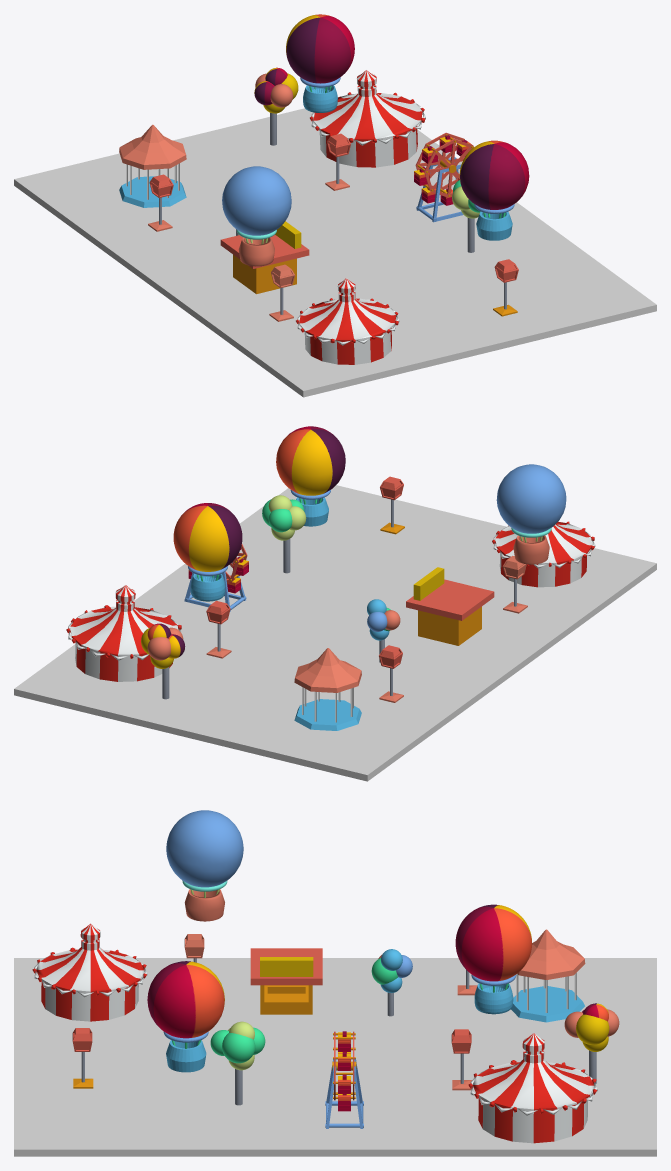
The picture shows the model from 3 angles, top to bottom: view 1: azimuth 30°, elevation 25°; view 2: azimuth 150°, elevation 25°; view 3: azimuth 270°, elevation 25°; orthographic projection. The views are drawn at different scales.
Parts seen in each view (by area): view 1: ground, Tent_islandMaterial_0.001, Tent_islandMaterial_0, Cylinder.015, balloon, Sphere.013, Circle.001, Cylinder.002, Cube.036, Cube.037; view 2: ground, Tent_islandMaterial_0.001, balloon, Sphere.013, Cylinder.015, Circle.001, Tent_islandMaterial_0, Cube.037, Cube.036, Cube.038; view 3: ground, Tent_islandMaterial_0.001, Tent_islandMaterial_0, Cylinder.015, balloon, Sphere.013, Circle.001, Cube.037, Cube.036, Cube.038, Sphere.007, Sphere (+1 smaller).
Part boxes in pixels (x1,y1,x2,y2): ground: (14,108,656,397); Tent_islandMaterial_0.001: (310,70,425,167); Tent_islandMaterial_0: (296,278,399,364); Cylinder.015: (459,140,529,240); balloon: (222,166,291,266); Sphere.013: (286,14,354,112); Circle.001: (119,124,186,207); Cylinder.002: (415,132,473,197); Cube.036: (233,254,296,294); Cube.037: (220,235,309,268); ground: (14,485,656,781); Tent_islandMaterial_0.001: (66,585,182,681); balloon: (496,464,566,564); Sphere.013: (173,503,242,601); Cylinder.015: (276,426,345,526); Circle.001: (294,648,361,730); Tent_islandMaterial_0: (492,521,595,587); Cube.037: (406,579,494,620); Cube.036: (418,606,481,645); Cube.038: (413,567,444,600); ground: (14,958,656,1156); Tent_islandMaterial_0.001: (468,1033,597,1143); Tent_islandMaterial_0: (32,923,147,1021); Cylinder.015: (147,961,224,1072); balloon: (166,810,243,921); Sphere.013: (455,904,531,1014); Circle.001: (511,929,585,1022); Cube.037: (250,948,322,985); Cube.036: (260,985,312,1014); Cube.038: (260,957,313,976); Sphere.007: (576,1014,609,1044); Sphere: (222,1032,255,1063).
Bounding box in the file's own units: 15.65 × 6.98 × 22.19.
Materials: 23 (4 with a texture image).
